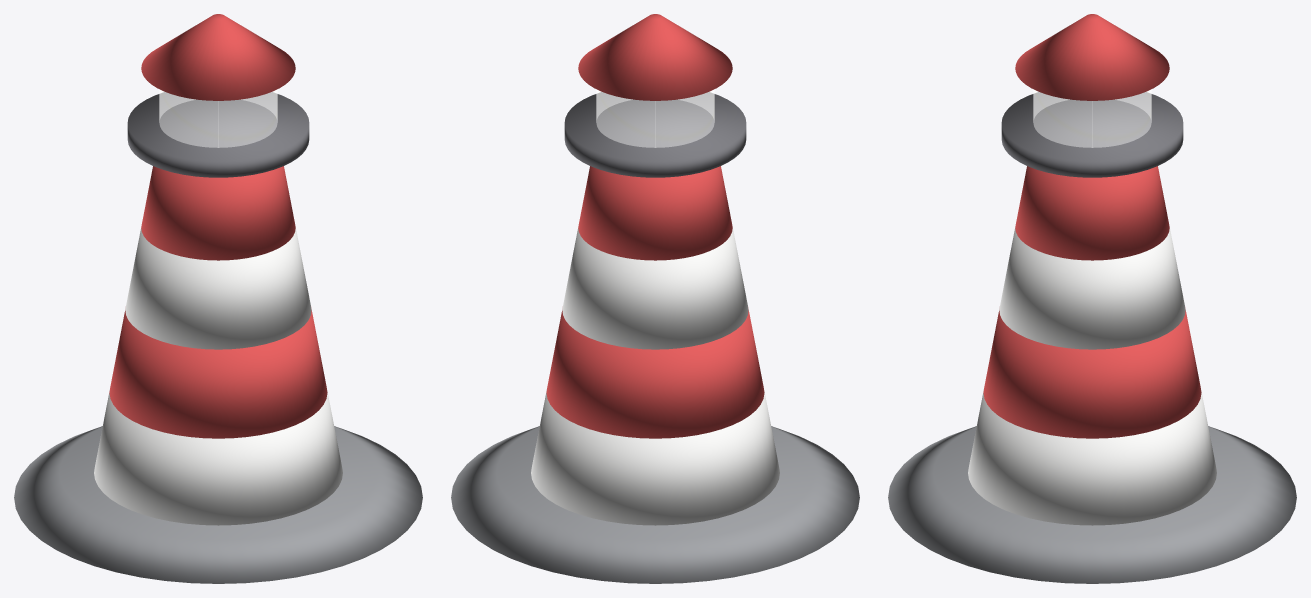
Rendered from lighthouse.glb.
The picture shows the model from 3 angles, left to right: view 1: azimuth 30°, elevation 25°; view 2: azimuth 150°, elevation 25°; view 3: azimuth 270°, elevation 25°; orthographic projection.
Visible parts, largest first — view 1: Cone.005, Cone, Cone.001, Cone.002, Cylinder, Cone.003, Cone.004, Cylinder.001; view 2: Cone.005, Cone, Cone.001, Cone.002, Cylinder, Cone.003, Cone.004, Cylinder.001; view 3: Cone.005, Cone, Cone.001, Cone.002, Cylinder, Cone.003, Cone.004, Cylinder.001.
Boxes of the visible parts, box(x1,y1,x2,y2) form: Cone.005: box(14, 426, 422, 583); Cone: box(94, 389, 342, 525); Cone.001: box(109, 310, 327, 438); Cone.002: box(125, 228, 311, 349); Cylinder: box(127, 92, 309, 177); Cone.003: box(141, 166, 295, 260); Cone.004: box(141, 14, 295, 100); Cylinder.001: box(159, 89, 277, 147); Cone.005: box(451, 426, 859, 583); Cone: box(531, 389, 779, 525); Cone.001: box(546, 310, 764, 438); Cone.002: box(562, 228, 748, 349); Cylinder: box(564, 92, 746, 177); Cone.003: box(578, 166, 732, 260); Cone.004: box(578, 14, 732, 100); Cylinder.001: box(596, 89, 714, 147); Cone.005: box(888, 426, 1296, 583); Cone: box(968, 389, 1216, 525); Cone.001: box(983, 310, 1201, 438); Cone.002: box(999, 228, 1185, 349); Cylinder: box(1001, 92, 1183, 177); Cone.003: box(1015, 166, 1169, 260); Cone.004: box(1015, 14, 1169, 100); Cylinder.001: box(1033, 89, 1151, 147).
Bounding box in the file's own units: 1.09 × 1.42 × 1.09.
